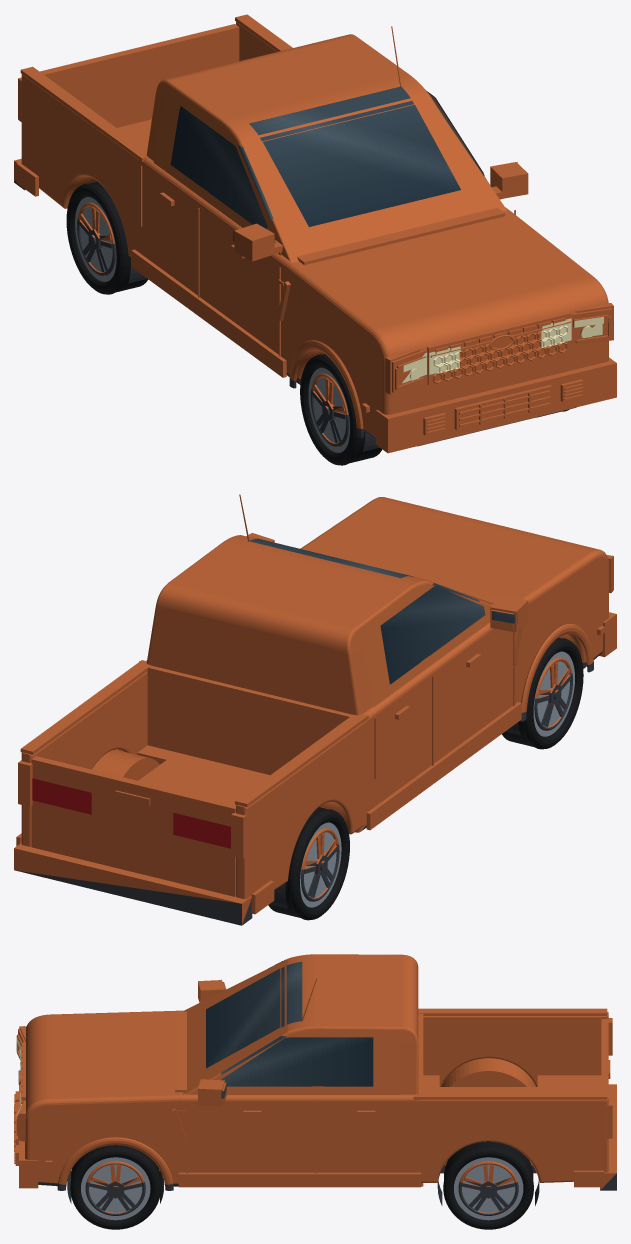
Rendered from pickup.obj.
3 views of the same model, one above another, from view 1: azimuth 30°, elevation 25°; view 2: azimuth 150°, elevation 25°; view 3: azimuth 270°, elevation 25° (orthographic). The views are drawn at different scales.
Visible parts, largest first — view 1: pickup; view 2: pickup; view 3: pickup.
Boxes of the visible parts, x1,y1,x2,y2 form: pickup: [14, 14, 616, 465]; pickup: [14, 494, 616, 925]; pickup: [14, 954, 616, 1229].
Size of the model in its own units: 2.22 by 2.22 by 5.1.
Materials: 7 (1 with a texture image).
